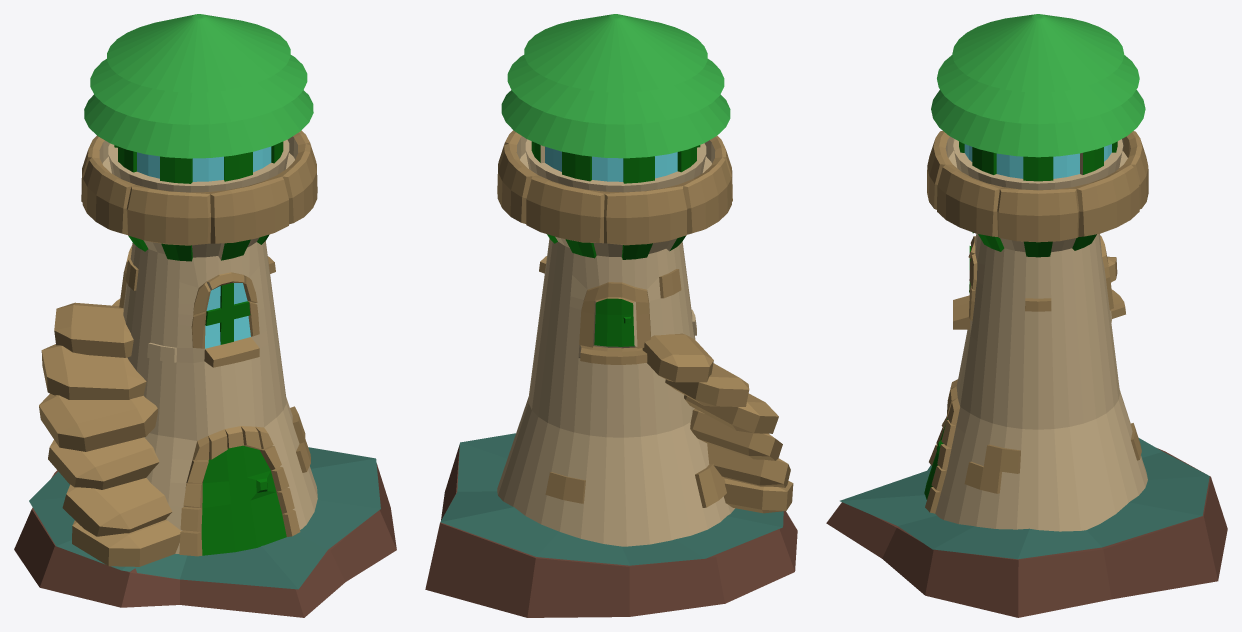
The model's file is ToprakKule2.fbx.
The picture shows the model from 3 angles, left to right: view 1: azimuth 30°, elevation 25°; view 2: azimuth 150°, elevation 25°; view 3: azimuth 270°, elevation 25°; orthographic projection. The views are drawn at different scales.
Parts seen in each view (by area): view 1: Cylinder.008, Cube.004, Circle.008, cımen.007; view 2: Cylinder.008, Circle.008, Cube.004, cımen.007; view 3: Cylinder.008, Circle.008, cımen.007.
Boxes of the visible parts, x1=… form: Cylinder.008: x1=81, y1=14, x2=317, y2=556; Cube.004: x1=39, y1=302, x2=181, y2=566; Circle.008: x1=14, y1=463, x2=396, y2=617; cımen.007: x1=29, y1=447, x2=380, y2=589; Cylinder.008: x1=497, y1=14, x2=734, y2=546; Circle.008: x1=425, y1=445, x2=797, y2=617; Cube.004: x1=642, y1=333, x2=793, y2=513; cımen.007: x1=440, y1=433, x2=783, y2=565; Cylinder.008: x1=924, y1=14, x2=1148, y2=531; Circle.008: x1=826, y1=448, x2=1227, y2=617; cımen.007: x1=840, y1=438, x2=1209, y2=559.
Size of the model in its own units: 488 by 705 by 496.
